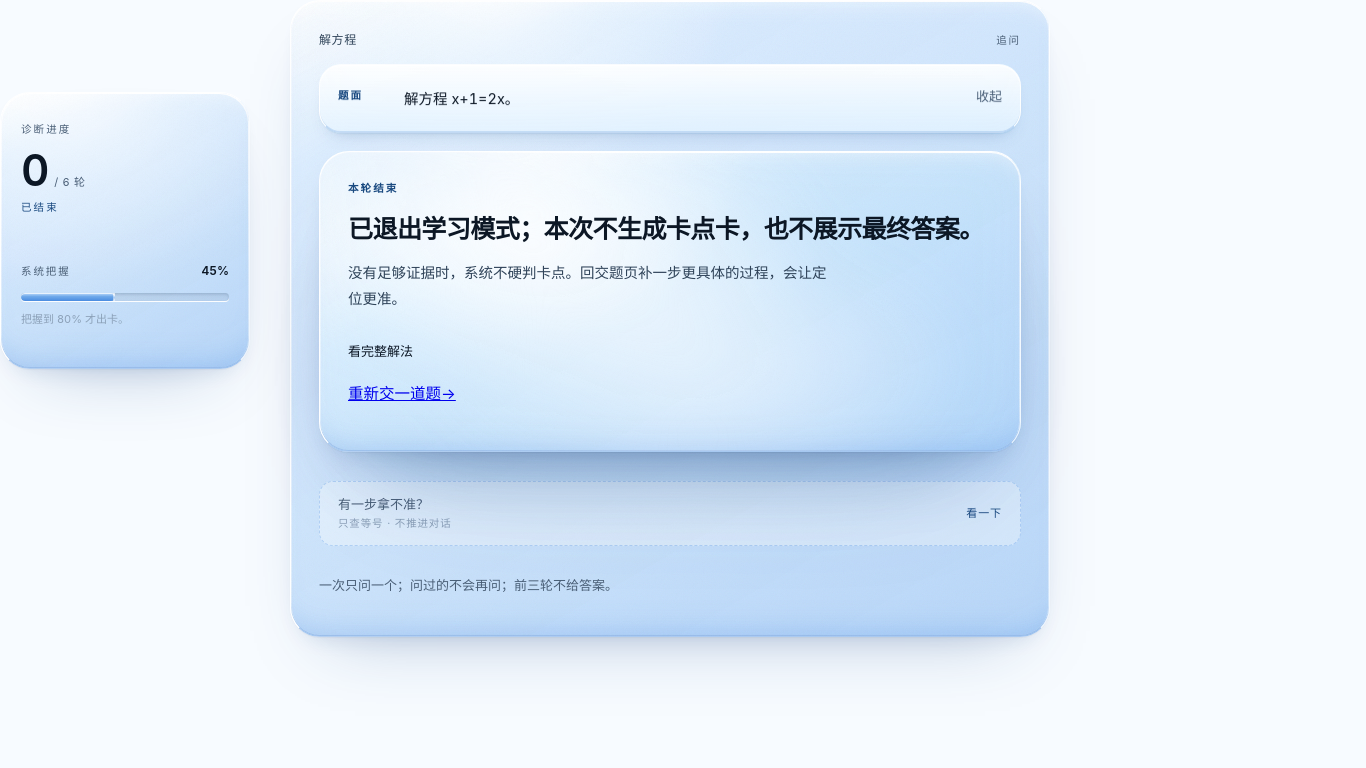
it: DiagnosePage conflict recovery › reveals the stored solution only after a second explicit click
Click the button "看完整解法" at (380, 352), box [348,341,413,362]
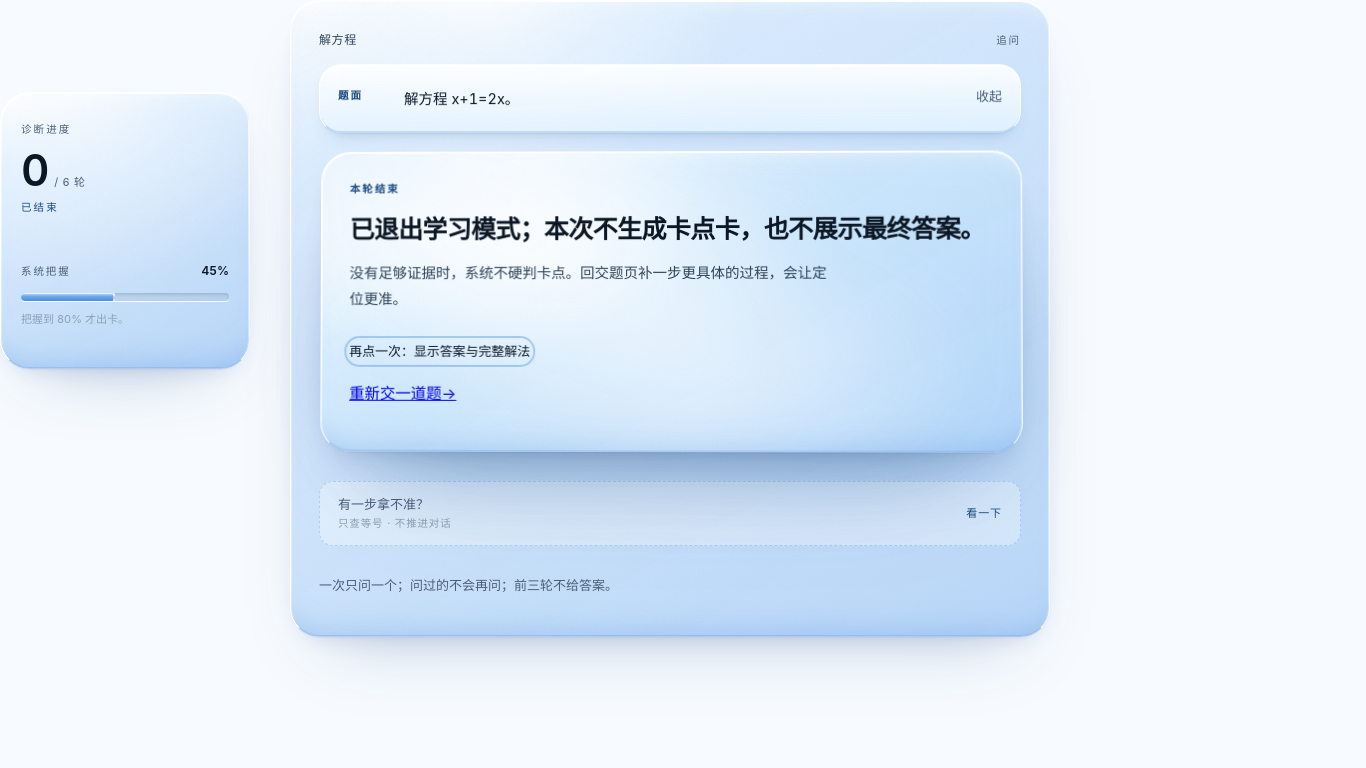
Expected: the button "再点一次：显示答案与完整解法" is shown
Click the button "再点一次：显示答案与完整解法" at (440, 352), box [349,341,530,362]
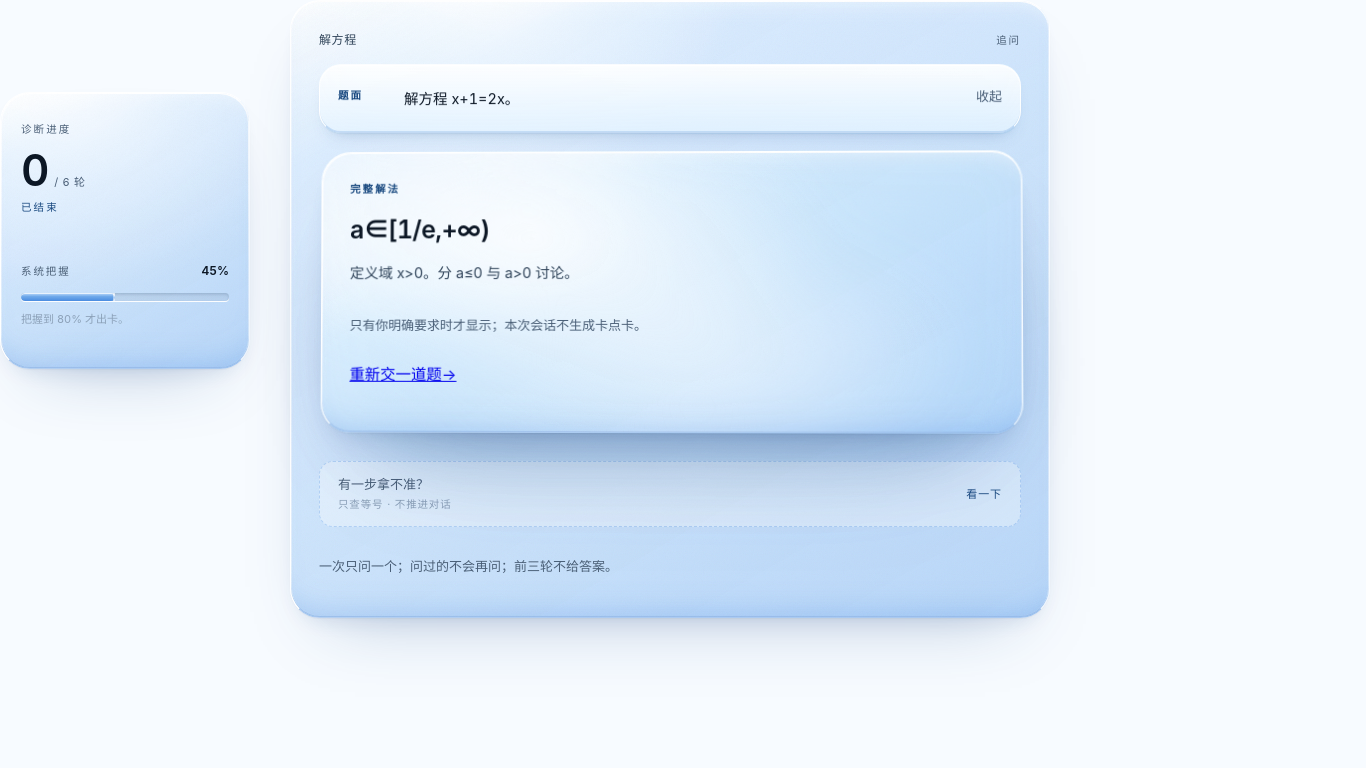
Expected: the heading "a∈[1/e,+∞)" is shown, [350,215,490,245]
Expected: the text "定义域 x>0。分 a≤0 与 a>0 讨论。" is shown, [350,265,579,282]
